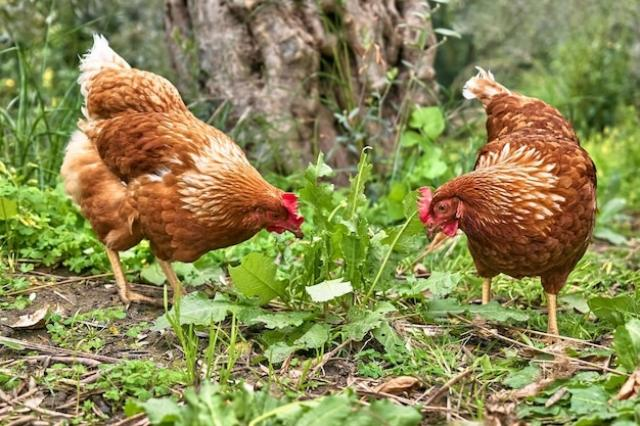Chicken: (62, 31, 306, 308), (420, 66, 596, 338)
